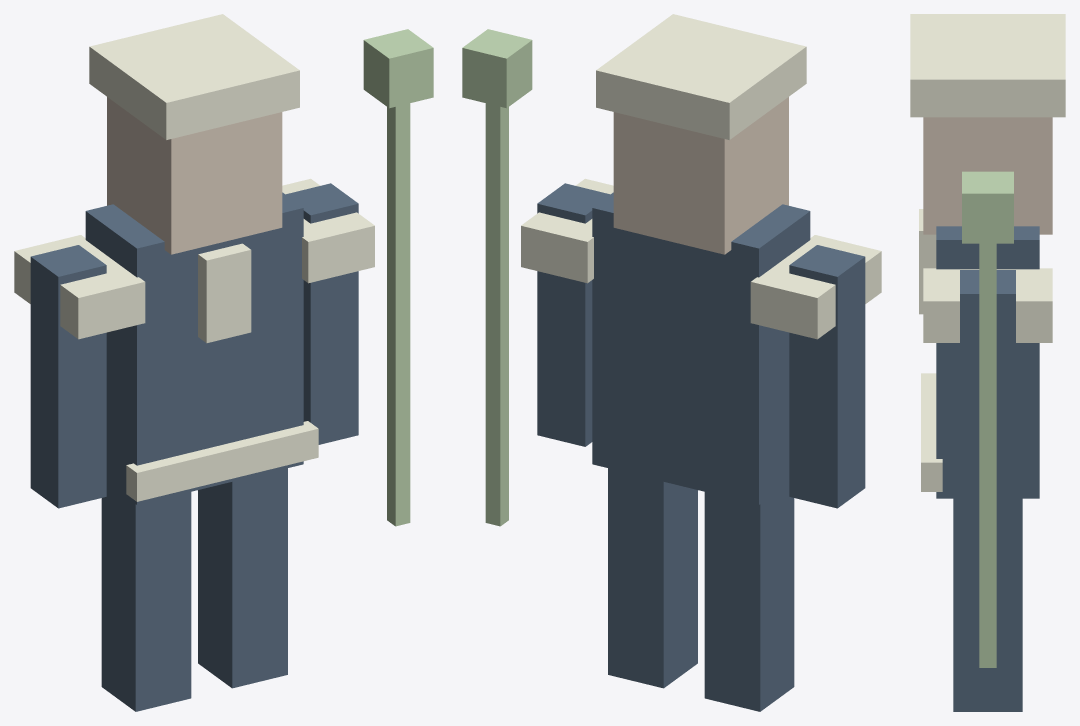
Rendered from 15_maelis_stormhush_captain_of_fuel.glb.
The picture shows the model from 3 angles, left to right: view 1: azimuth 30°, elevation 25°; view 2: azimuth 150°, elevation 25°; view 3: azimuth 270°, elevation 25°; orthographic projection.
Visible parts, largest first — view 1: Maelis Stormhush, Captain of Fuel; view 2: Maelis Stormhush, Captain of Fuel; view 3: Maelis Stormhush, Captain of Fuel.
Boxes of the visible parts, left/top/right/bottom form: Maelis Stormhush, Captain of Fuel: left=14, top=14, right=433, bottom=711; Maelis Stormhush, Captain of Fuel: left=462, top=14, right=881, bottom=711; Maelis Stormhush, Captain of Fuel: left=910, top=14, right=1065, bottom=711.
Size of the model in its own units: 1.06 by 1.67 by 0.3751.
